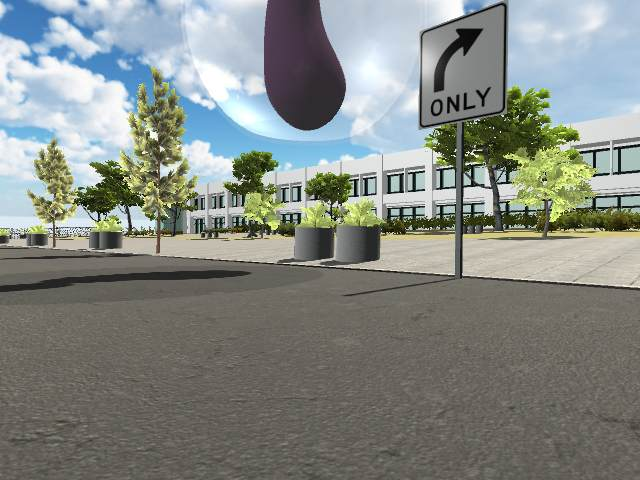arrow_right: (429, 24, 488, 92)
